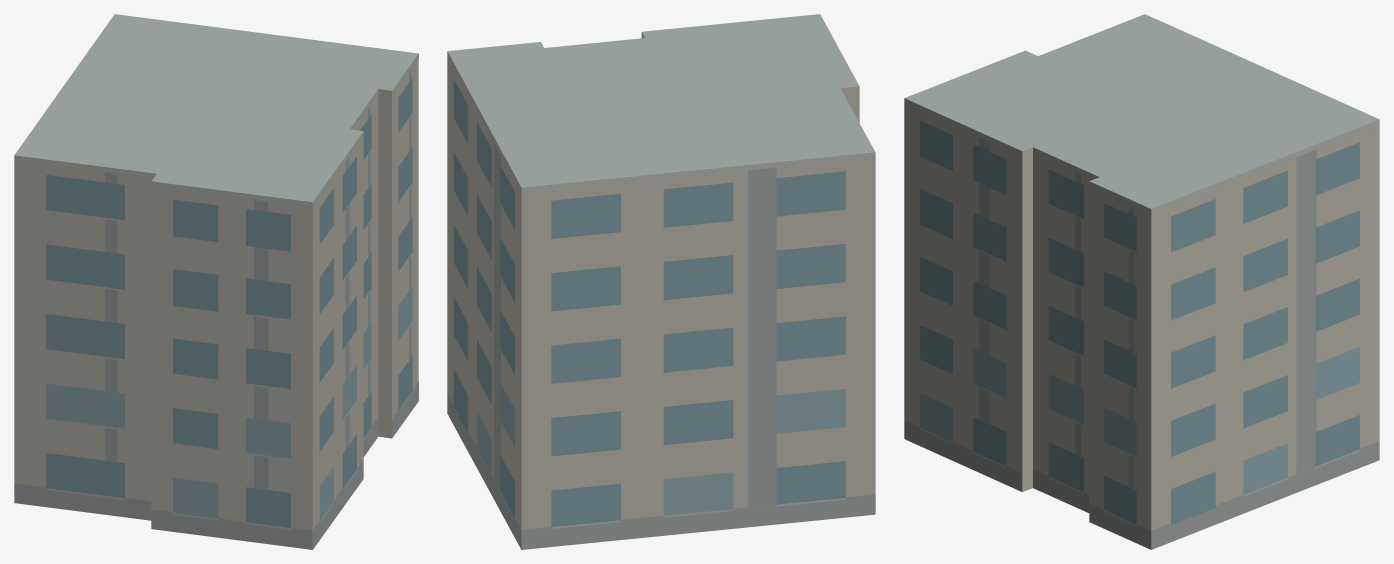
The model's file is survey-upis-32827341.glb.
3 views of the same model, side by side, from view 1: azimuth 30°, elevation 25°; view 2: azimuth 150°, elevation 25°; view 3: azimuth 270°, elevation 25° (orthographic). The views are drawn at different scales.
Visible parts, largest first — view 1: survey-upis-32827341.tmp; view 2: survey-upis-32827341.tmp; view 3: survey-upis-32827341.tmp.
Part boxes in pixels (x1,y1,x2,y2): survey-upis-32827341.tmp: (14, 14, 418, 549); survey-upis-32827341.tmp: (447, 14, 875, 549); survey-upis-32827341.tmp: (904, 14, 1379, 549).
Bounding box in the file's own units: 19.89 × 16.2 × 20.48.
